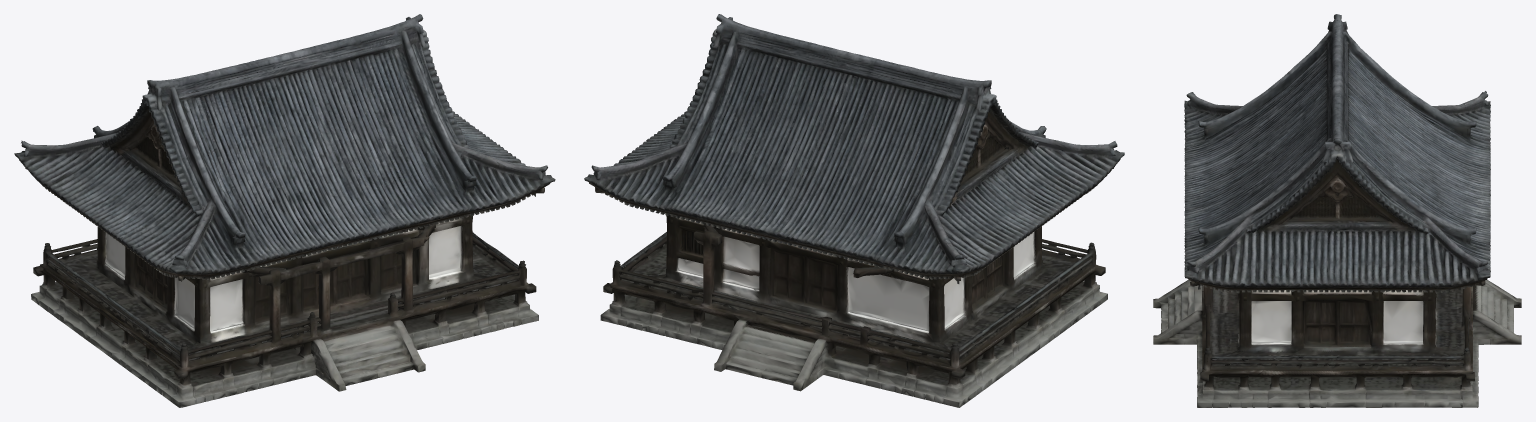
File: fortress_temple.glb
The picture shows the model from 3 angles, left to right: view 1: azimuth 30°, elevation 25°; view 2: azimuth 150°, elevation 25°; view 3: azimuth 270°, elevation 25°; orthographic projection. The views are drawn at different scales.
Visible parts, largest first — view 1: tripo_node_f20e6b28-4d0e-4099-aed1-cddf974c09b9; view 2: tripo_node_f20e6b28-4d0e-4099-aed1-cddf974c09b9; view 3: tripo_node_f20e6b28-4d0e-4099-aed1-cddf974c09b9.
Boxes of the visible parts, <box> form: tripo_node_f20e6b28-4d0e-4099-aed1-cddf974c09b9: <box>14,14,555,407</box>; tripo_node_f20e6b28-4d0e-4099-aed1-cddf974c09b9: <box>584,14,1124,407</box>; tripo_node_f20e6b28-4d0e-4099-aed1-cddf974c09b9: <box>1153,14,1521,407</box>.
Bounding box in the file's own units: 0.9794 × 0.6459 × 0.8679.
Materials: 1 (1 with a texture image).
